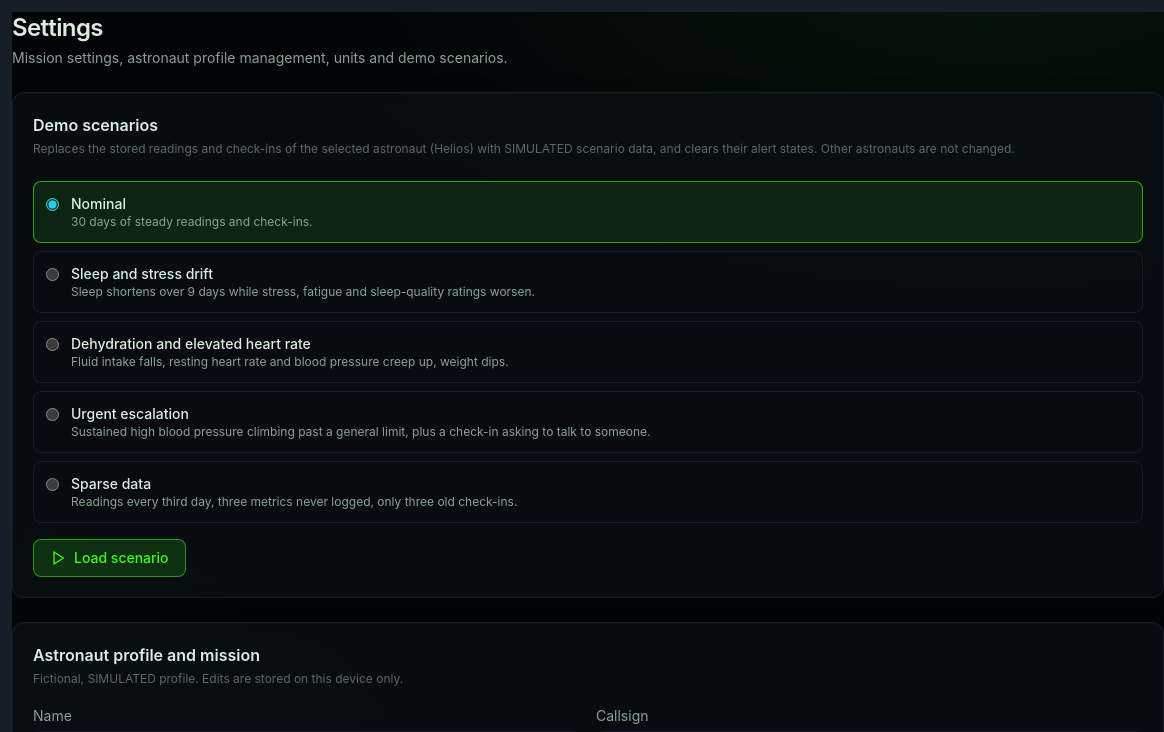
Settings › loads a scenario into the data store
Click the radio button labelled "Urgent escalation" at (52, 414), box [46,408,59,421]
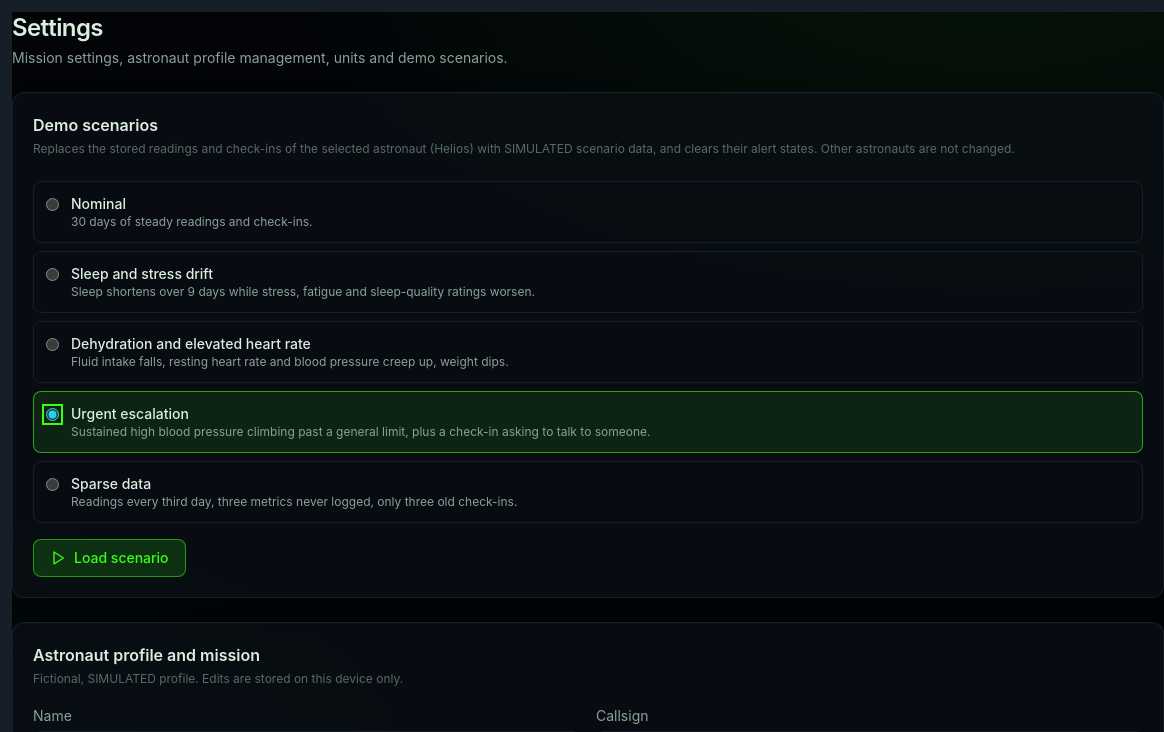
Click the button "Load scenario" at (109, 558), box [33,539,186,577]
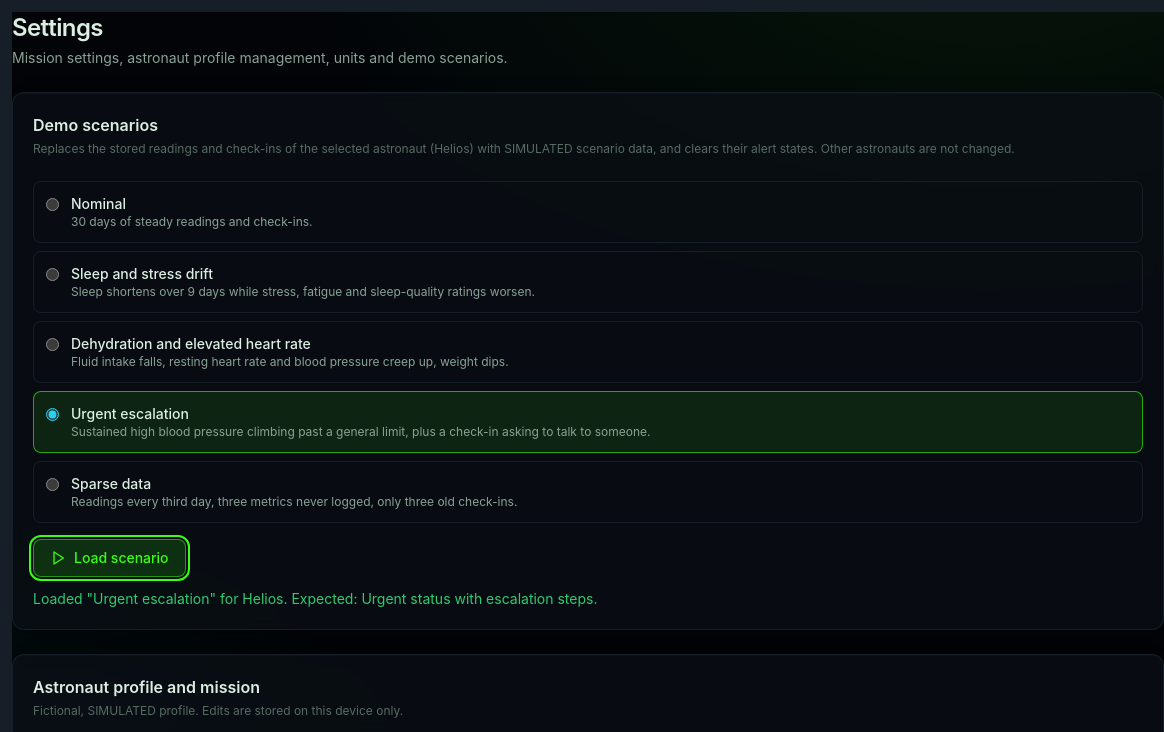
Now the text "Loaded \"Urgent escalation\"" is shown, box [33,590,598,607]
